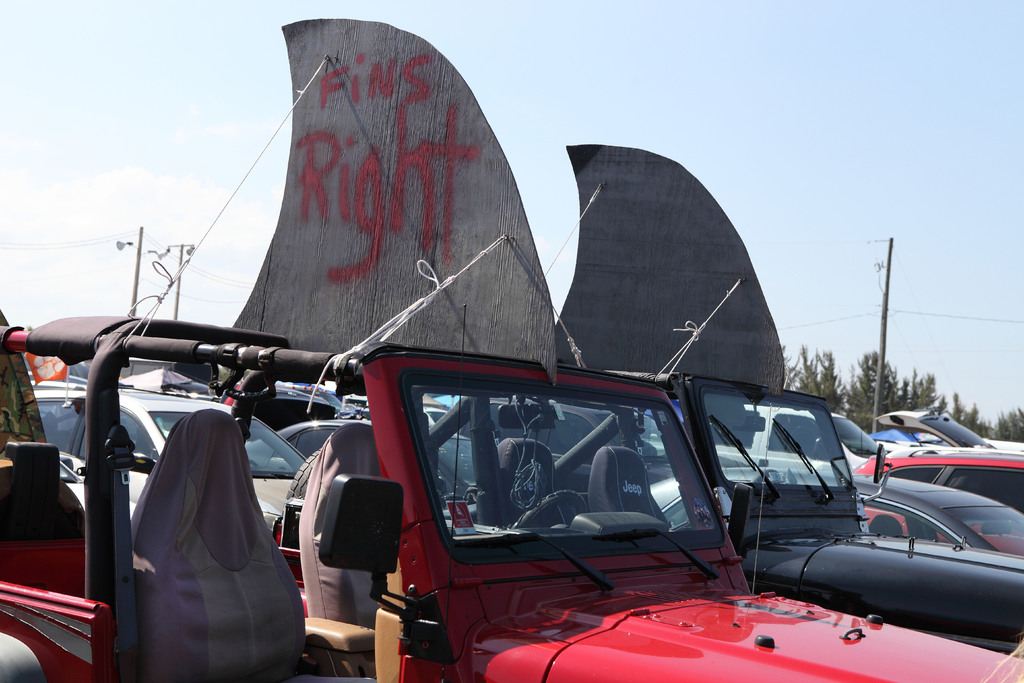Car: (0, 304, 1023, 677), (22, 376, 324, 525), (649, 469, 1023, 560), (844, 467, 1023, 575), (643, 395, 871, 477), (450, 401, 644, 486), (854, 444, 1023, 513), (223, 378, 353, 447), (869, 410, 1023, 450), (414, 404, 481, 486)
